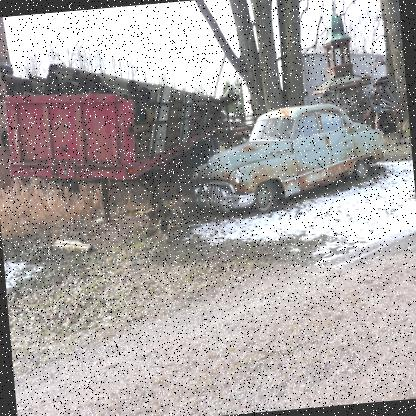Car: (187, 100, 389, 218)
